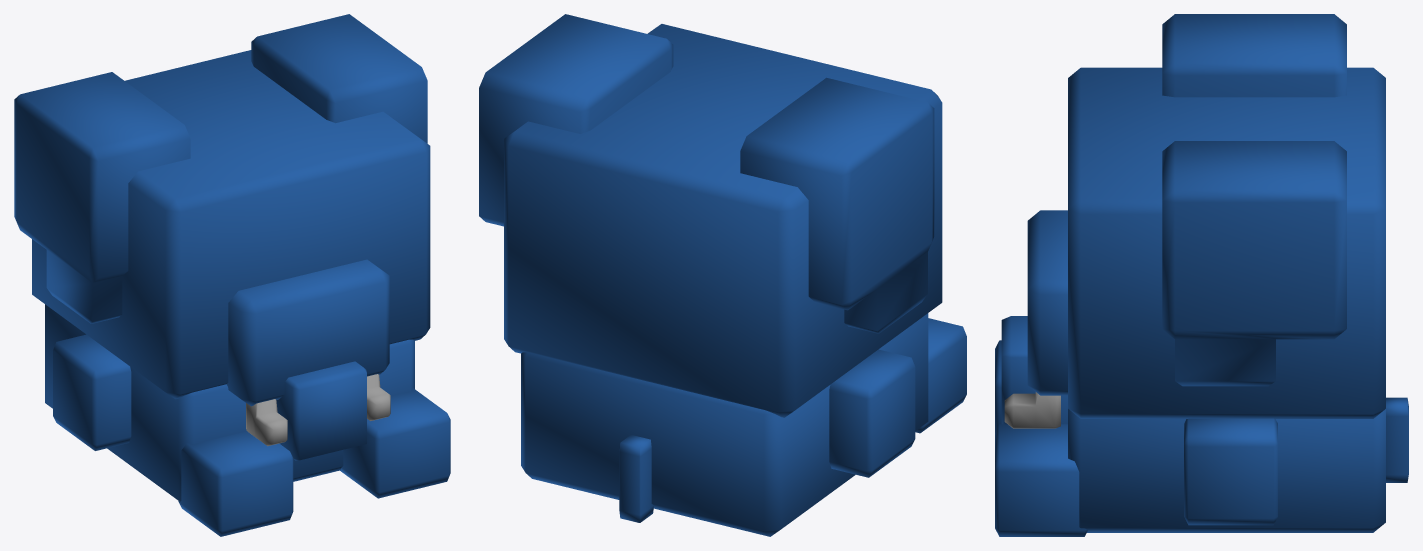
File: elephant_01.FBX
3 views of the same model, side by side, from view 1: azimuth 30°, elevation 25°; view 2: azimuth 150°, elevation 25°; view 3: azimuth 270°, elevation 25° (orthographic). The views are drawn at different scales.
Visible parts, largest first — view 1: Box019, 对象001; view 2: Box019; view 3: Box019, 对象001.
Part boxes in pixels (bbox=[...]): Box019: bbox=[14, 14, 450, 536]; 对象001: bbox=[246, 374, 390, 446]; Box019: bbox=[479, 14, 966, 536]; Box019: bbox=[995, 14, 1408, 536]; 对象001: bbox=[1004, 392, 1060, 428].
Size of the model in its own units: 49.66 by 48.37 by 48.26.
